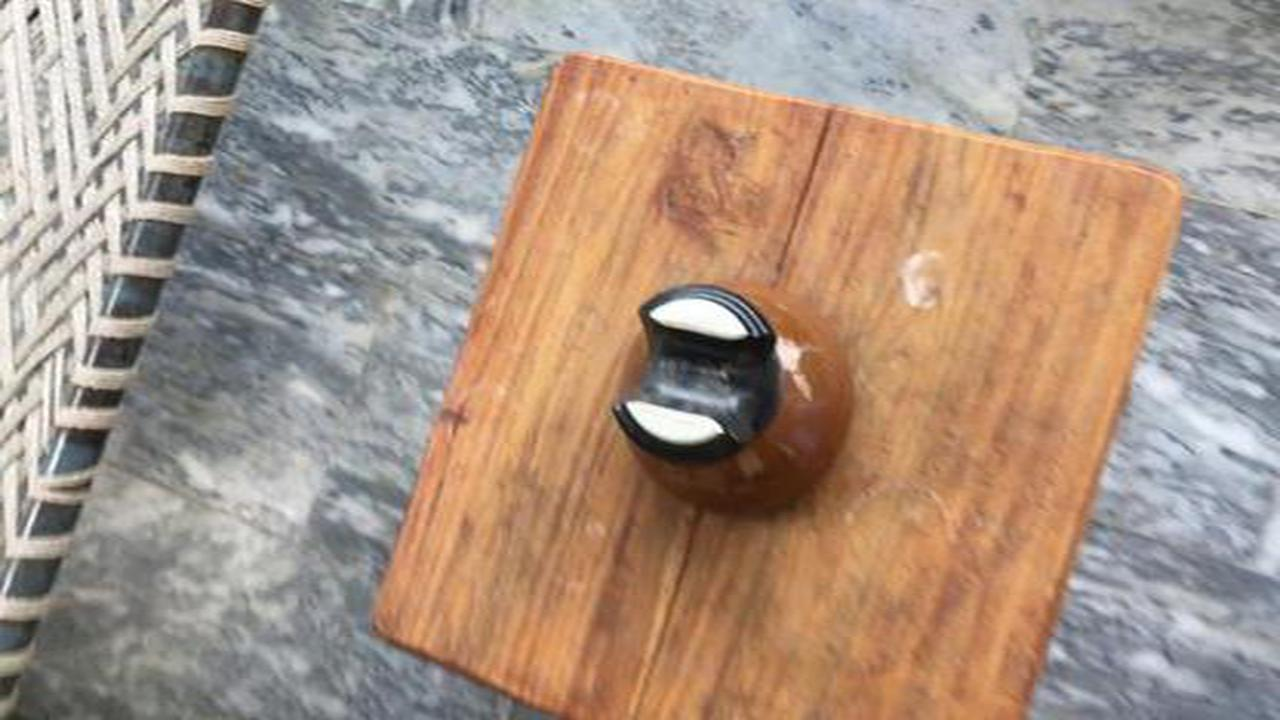insulator_pin: (585, 272, 890, 544)
